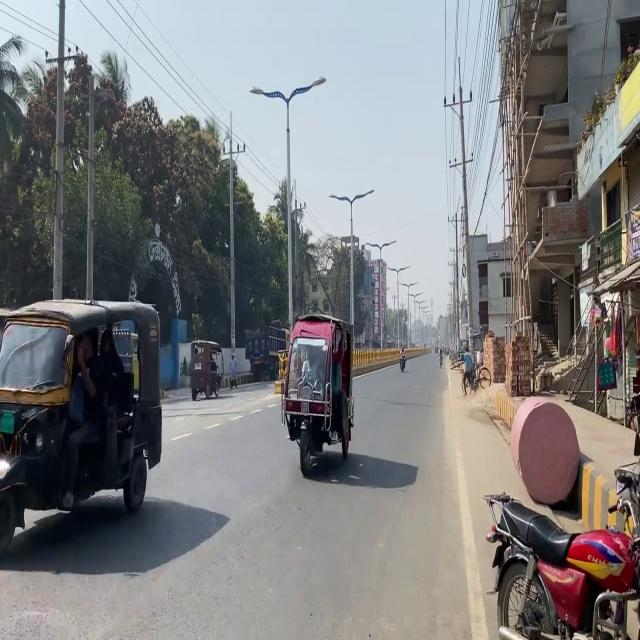Construction-barrier: (351, 345, 432, 379)
Dog: (509, 395, 580, 506)
Downstairs: (189, 339, 222, 400)
Fallen-tree: (482, 460, 639, 639)
Garbage-bin: (461, 346, 476, 395), (229, 354, 237, 389), (399, 346, 406, 371)
Light-pole: (51, 0, 66, 299), (84, 69, 96, 300)
Traffic-cone: (0, 296, 162, 556), (276, 298, 368, 476), (244, 320, 289, 381)
